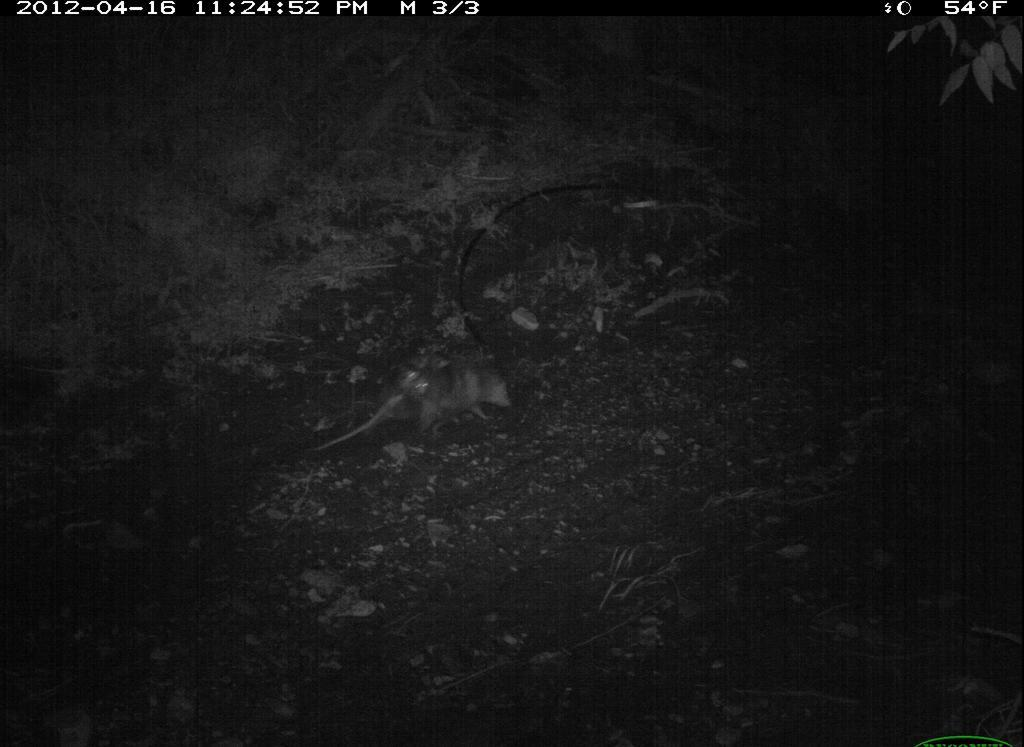opossum: (317, 353, 520, 456)
